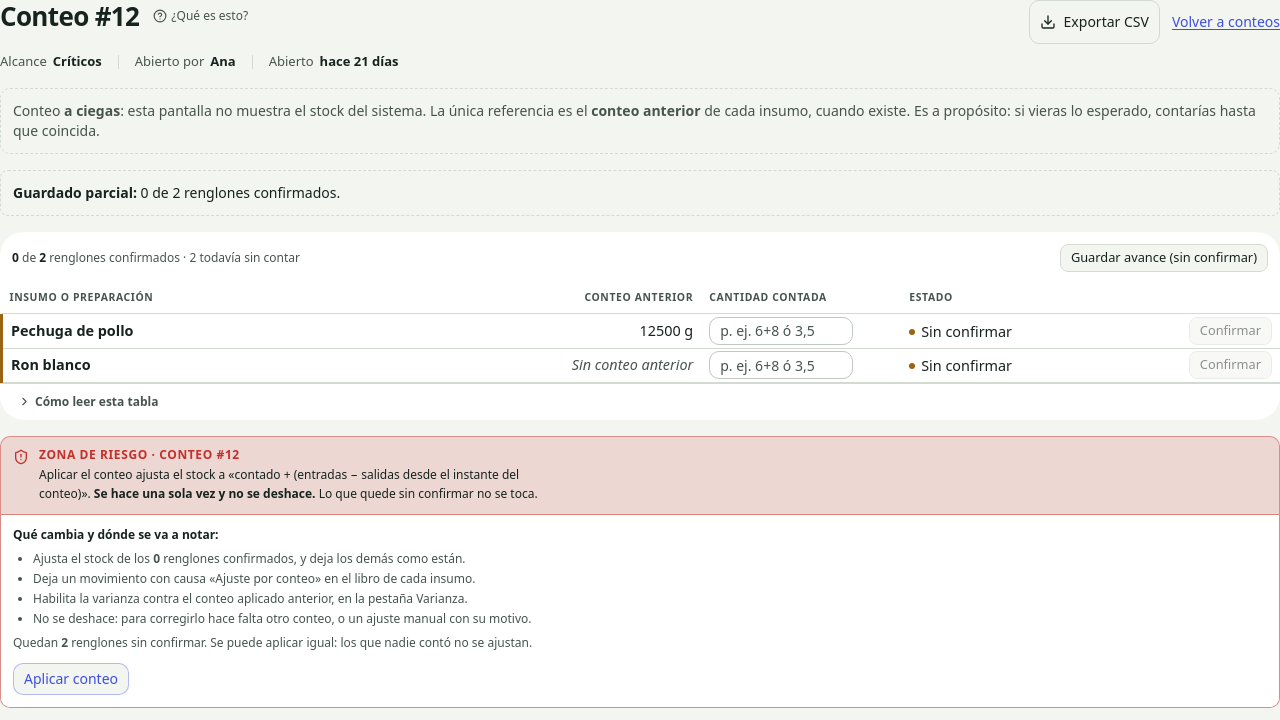
Test: CountCapturePage — a ciegas, sin «todo coincide» (SPEC-NEGOCIO §5.4) › aplicar es irreversible, pide PIN, y ante 409 COUNT_ALREADY_APPLIED explica sin ofrecer reintentar
Expected: the text "Pechuga de pollo" is shown, x1=2 y1=314 x2=378 y2=348
What coordinates should you click on to do the following:
click the button "Aplicar conteo"
I would click on:
 (71, 678)
Its box is x1=13 y1=662 x2=129 y2=694.
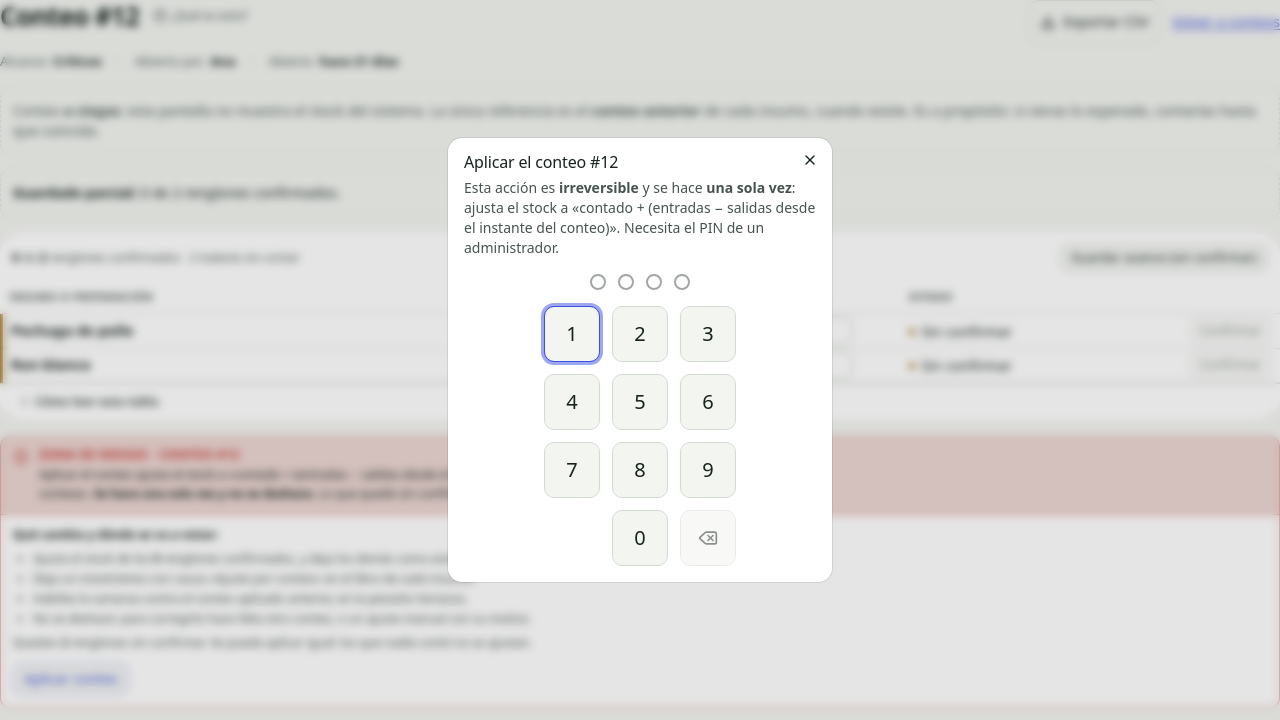
Result: the dialog is shown at x1=448 y1=138 x2=832 y2=582
Result: the text "irreversible" is shown at x1=559 y1=178 x2=639 y2=197
What coordinates should you click on to do the following:
click the button named "Dígito 1"
I would click on:
 (572, 334)
Its box is x1=544 y1=306 x2=600 y2=362.
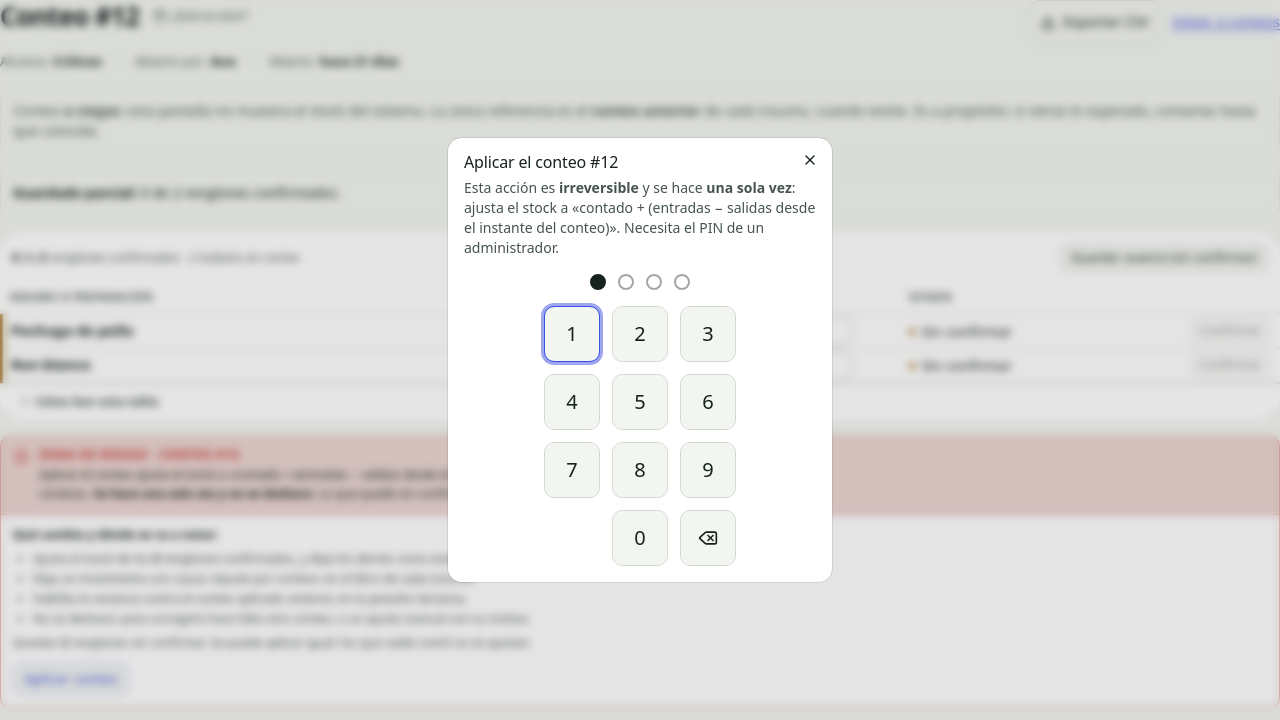
What coordinates should you click on to do the following:
click the button named "Dígito 2"
I would click on:
 (640, 334)
Its box is x1=612 y1=306 x2=668 y2=362.
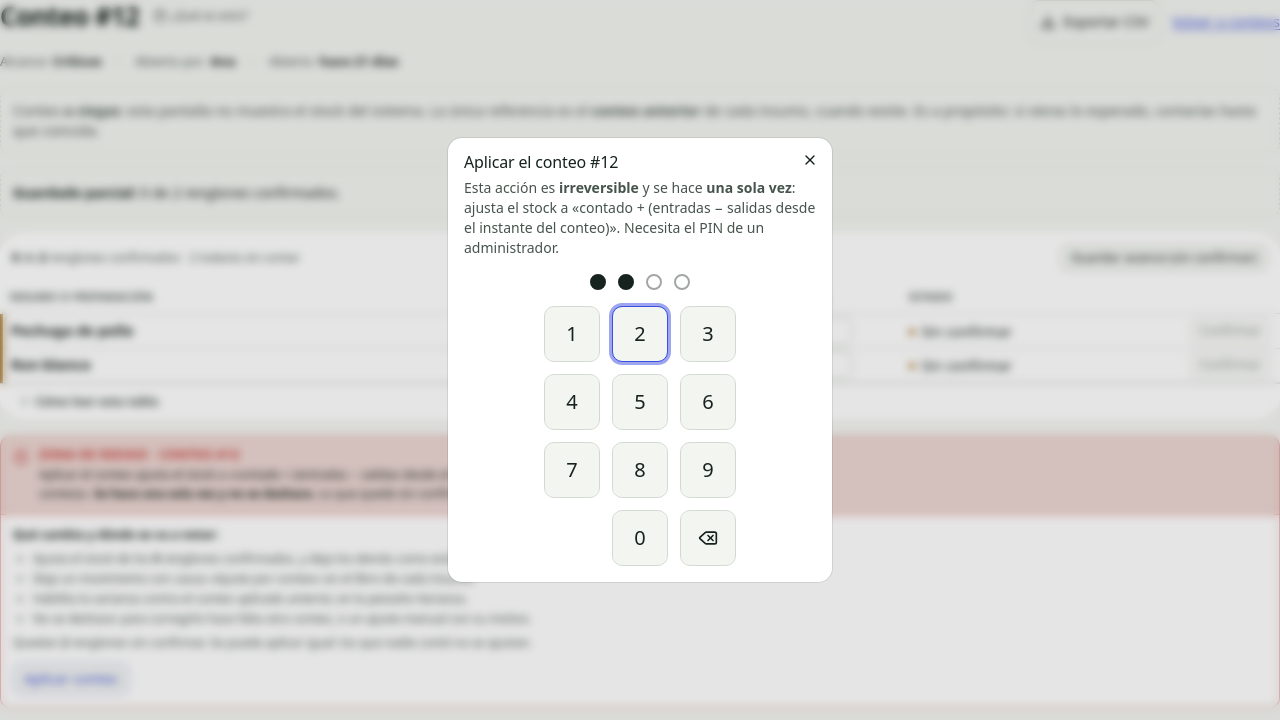
What coordinates should you click on to do the following:
click the button named "Dígito 3"
I would click on:
 (708, 334)
Its box is x1=680 y1=306 x2=736 y2=362.
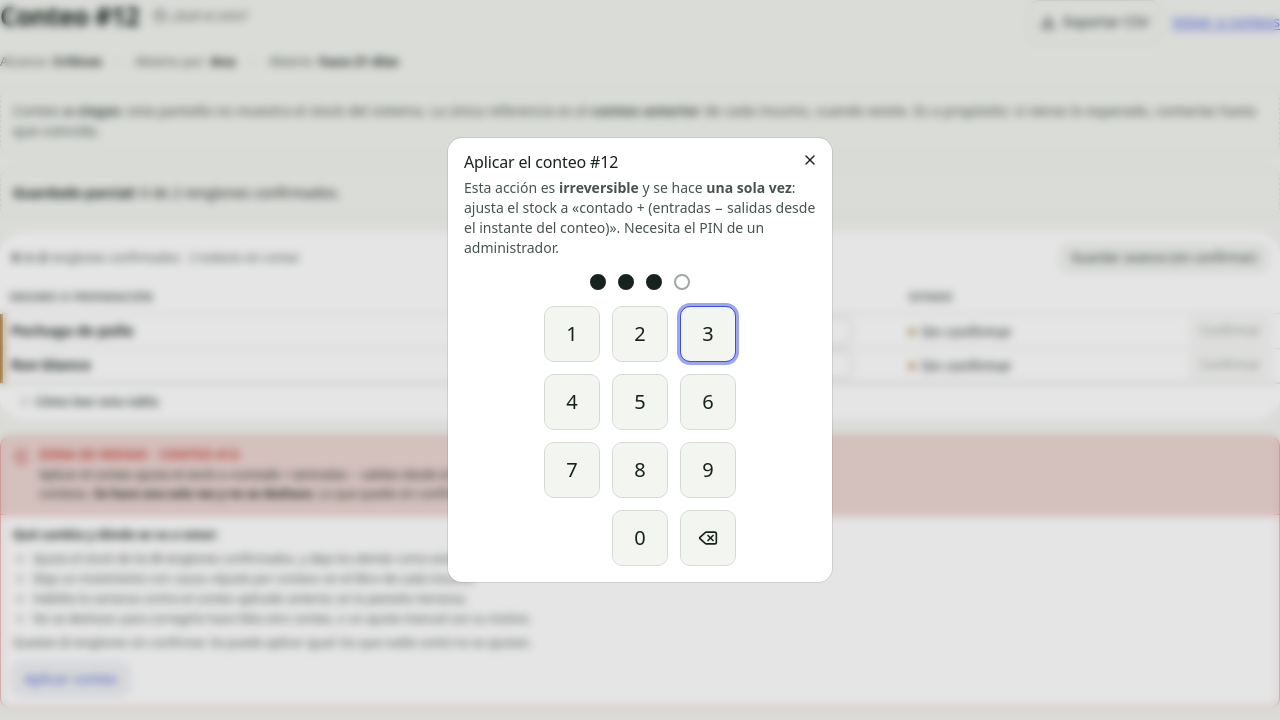
What coordinates should you click on to do the following:
click the button named "Dígito 4"
I would click on:
 (572, 402)
Its box is x1=544 y1=374 x2=600 y2=430.
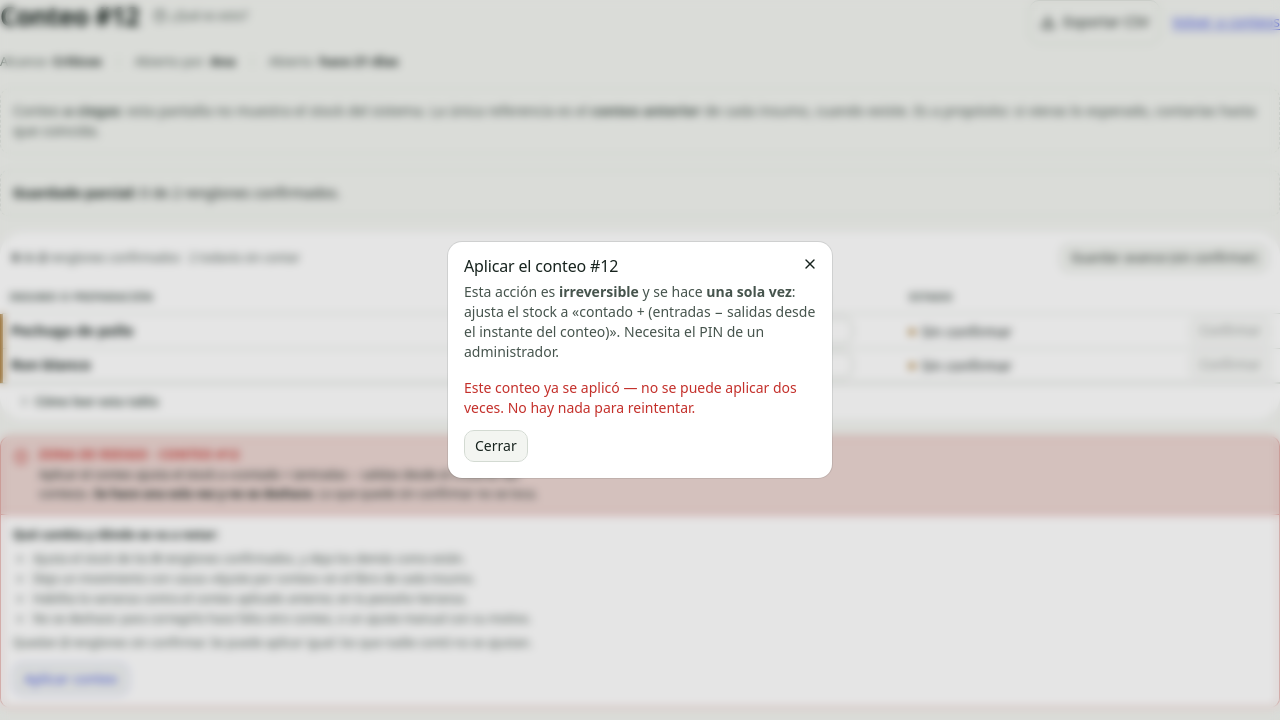
Result: the text "no hay nada para reintentar" is shown at x1=464 y1=378 x2=797 y2=417
